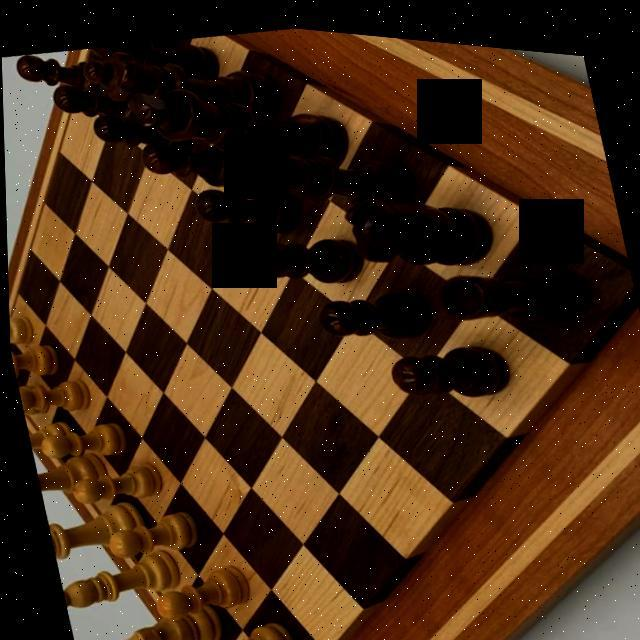chess-table-corners: (580, 224, 638, 302)
